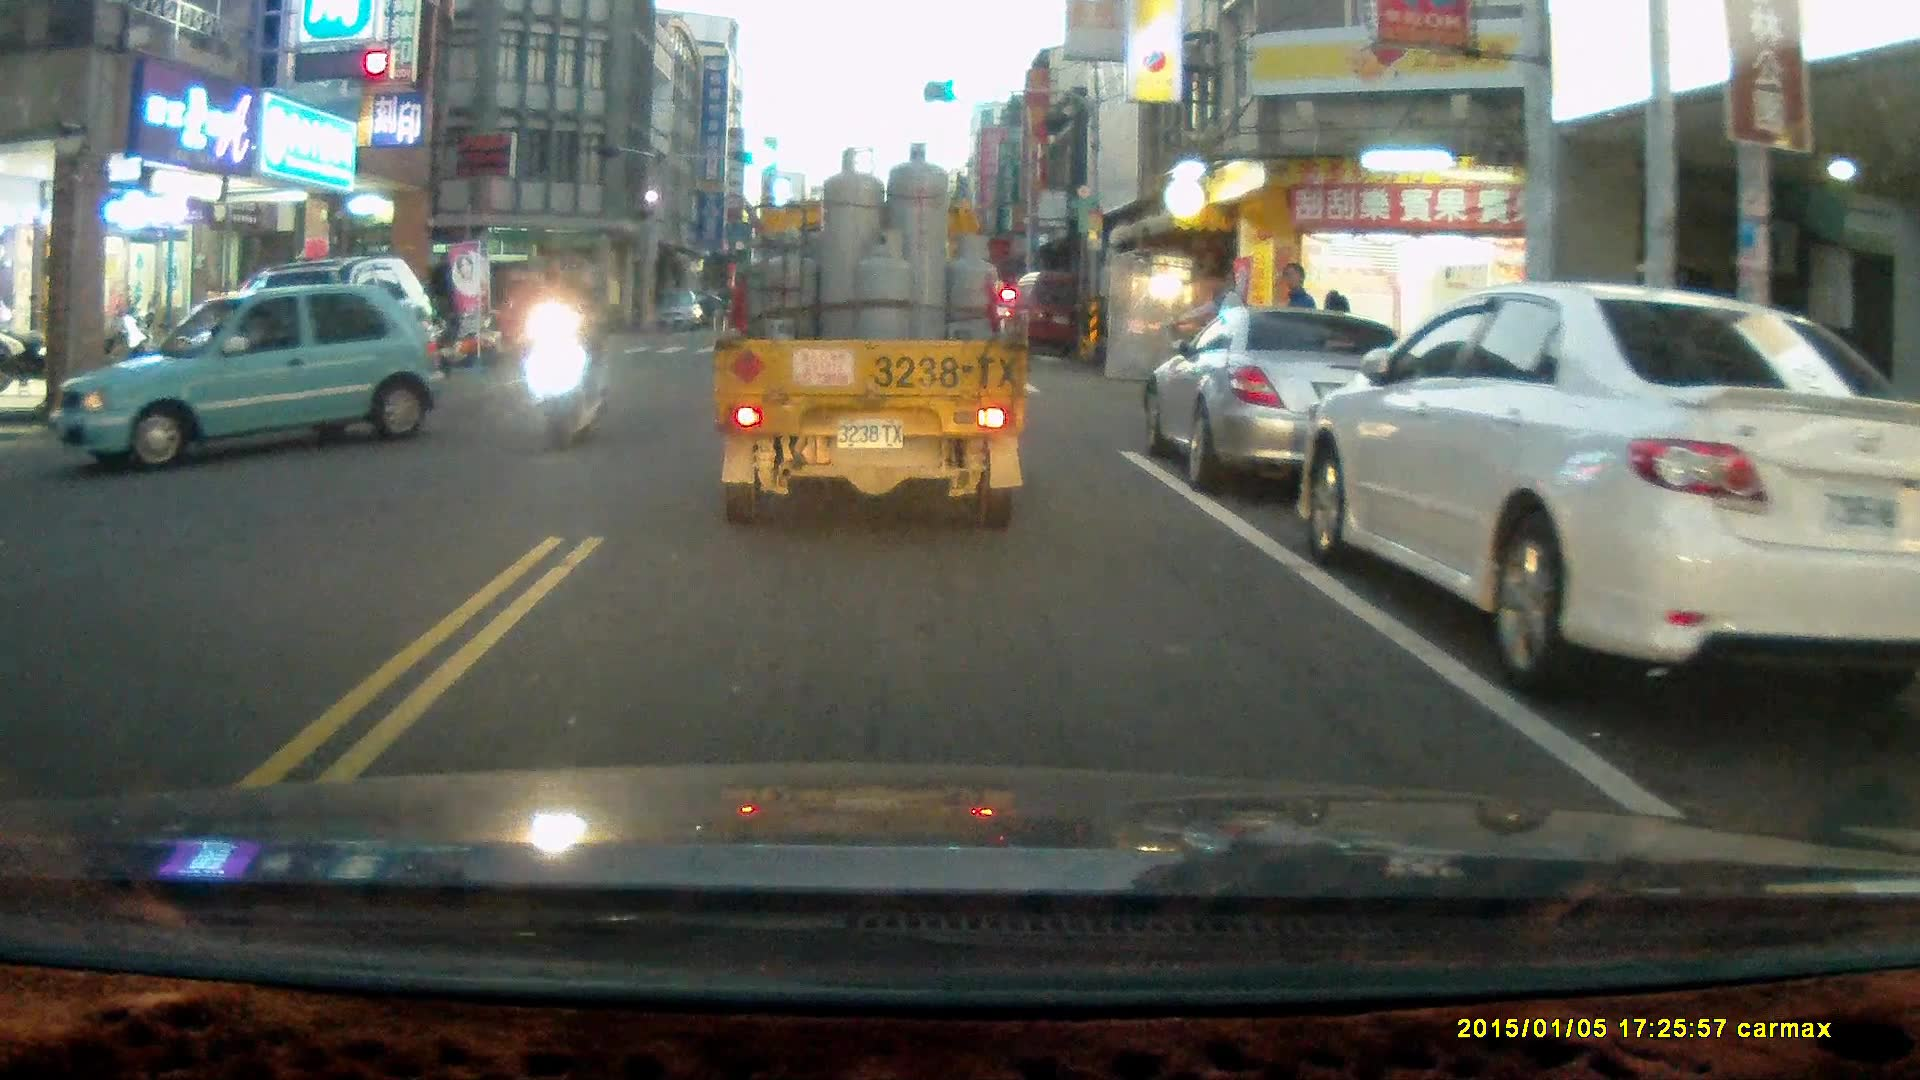rider: (1146, 266, 1299, 429), (538, 254, 612, 452)
vehicle: (1296, 282, 1920, 700), (711, 142, 1033, 531), (51, 284, 436, 472), (1139, 303, 1432, 491), (1008, 268, 1094, 359), (653, 290, 708, 337)
